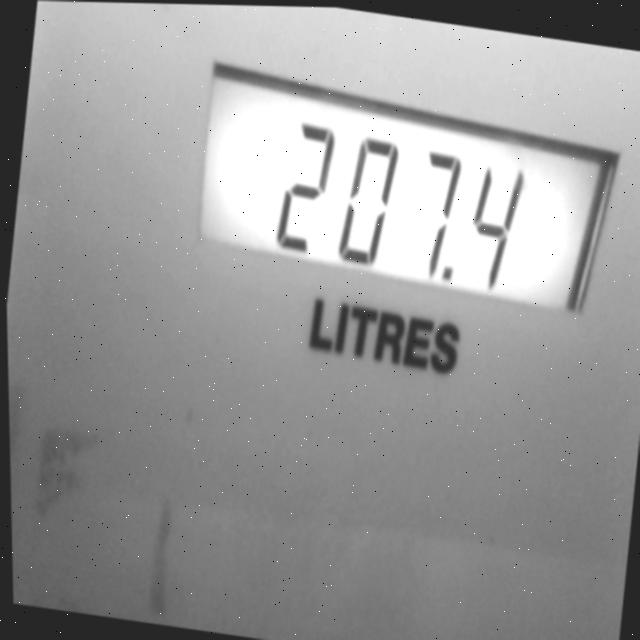.: (437, 249, 460, 287)
0: (328, 129, 412, 269)
2: (255, 103, 344, 269)
4: (457, 148, 536, 290)
7: (396, 138, 465, 282)
